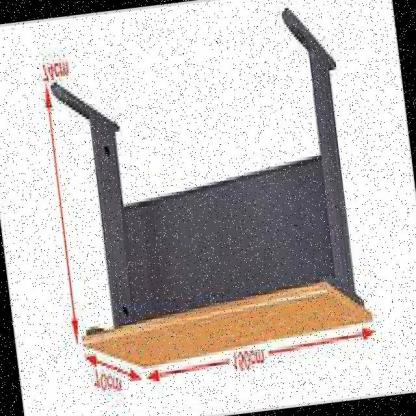Table: (35, 0, 384, 398)
